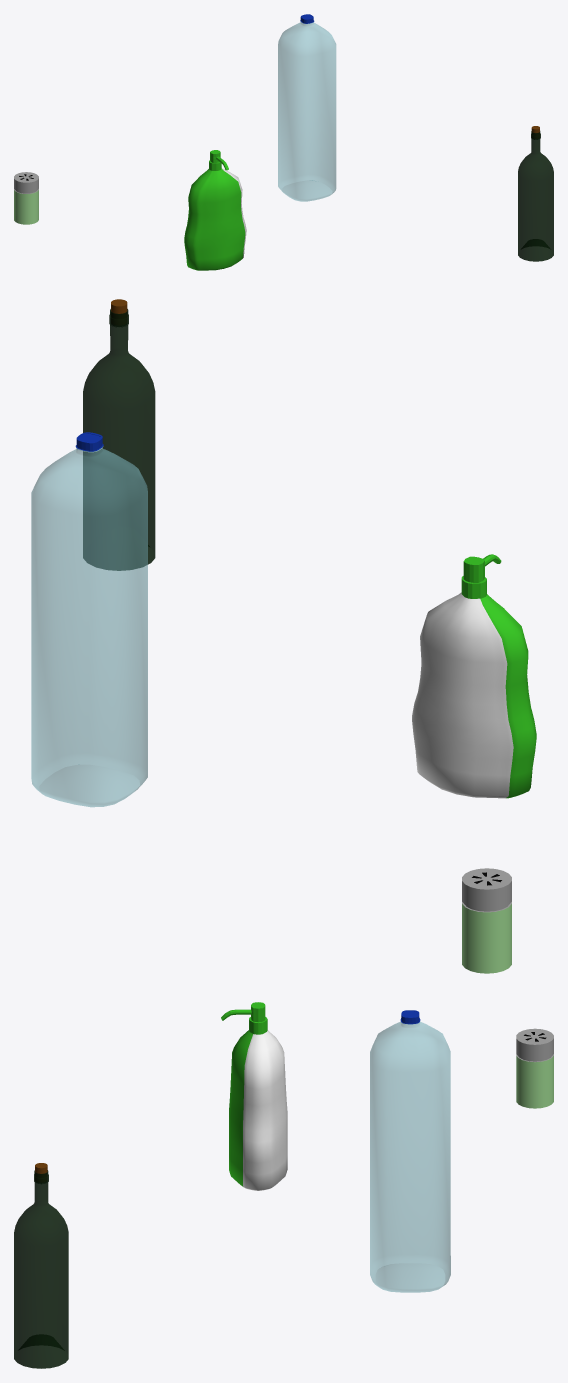
File: Bottle.FBX
3 renders of one model, top to bottom at view 1: azimuth 30°, elevation 25°; view 2: azimuth 150°, elevation 25°; view 3: azimuth 270°, elevation 25°, orthographic. The views are drawn at different scales.
Parts seen in each view (by area): view 1: WaterBottle, GenericBottle, WineBottle, SaltBottle; view 2: WaterBottle, GenericBottle, WineBottle, SaltBottle; view 3: WaterBottle, GenericBottle, WineBottle, SaltBottle.
Boxes of the visible parts, bbox=[...] form: WaterBottle: bbox=[278, 14, 336, 201]; GenericBottle: bbox=[184, 150, 246, 270]; WineBottle: bbox=[518, 126, 553, 261]; SaltBottle: bbox=[14, 172, 38, 224]; WaterBottle: bbox=[31, 432, 147, 807]; GenericBottle: bbox=[412, 554, 536, 798]; WineBottle: bbox=[83, 299, 155, 570]; SaltBottle: bbox=[462, 868, 511, 973]; WaterBottle: bbox=[370, 1010, 450, 1292]; GenericBottle: bbox=[221, 1002, 287, 1190]; WineBottle: bbox=[14, 1163, 68, 1368]; SaltBottle: bbox=[516, 1028, 553, 1108].
Size of the model in its own units: 78.86 by 35.12 by 65.11.
